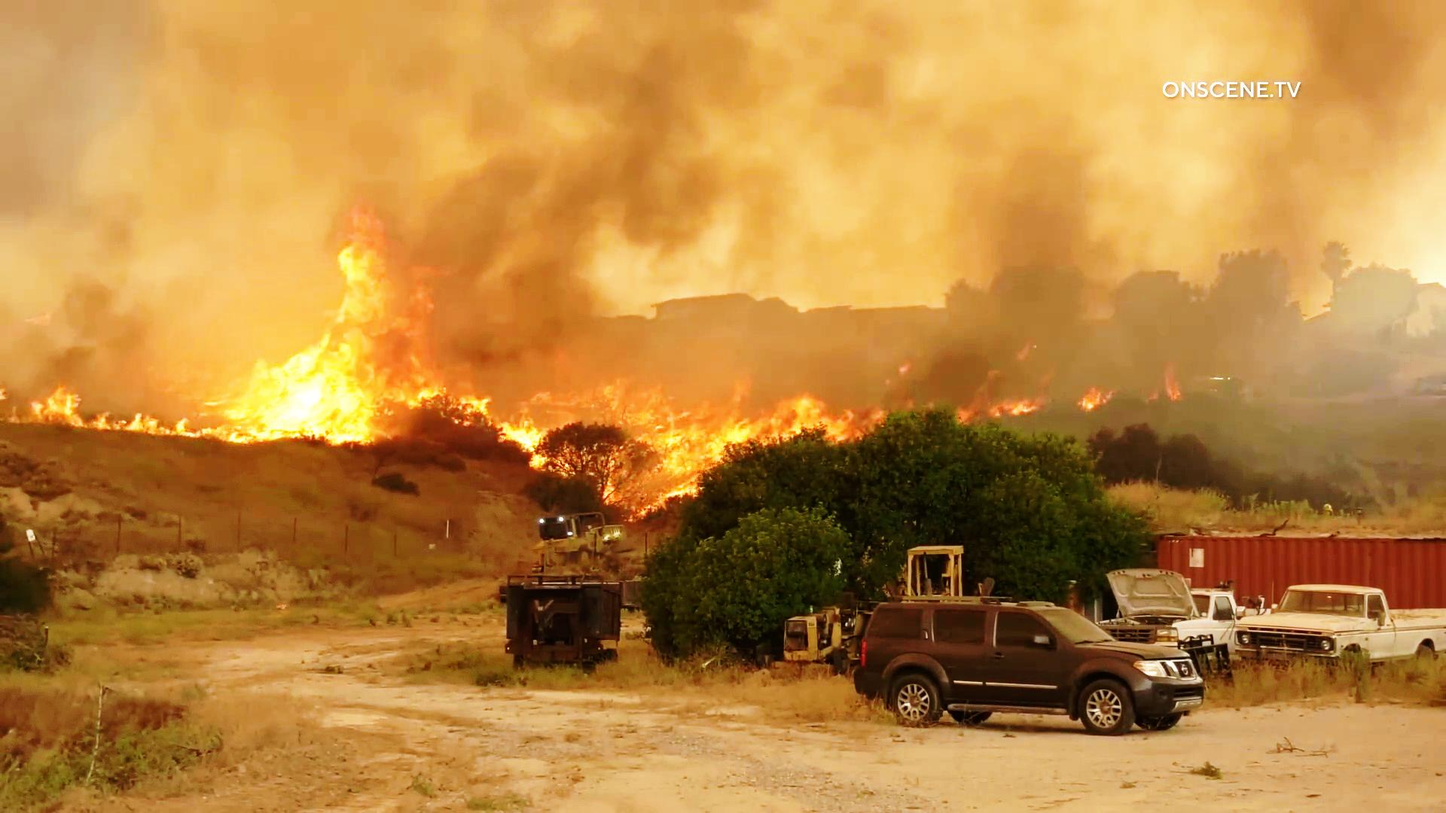fire: (237, 256, 448, 438), (645, 386, 718, 487)
smoke: (456, 40, 653, 341)
